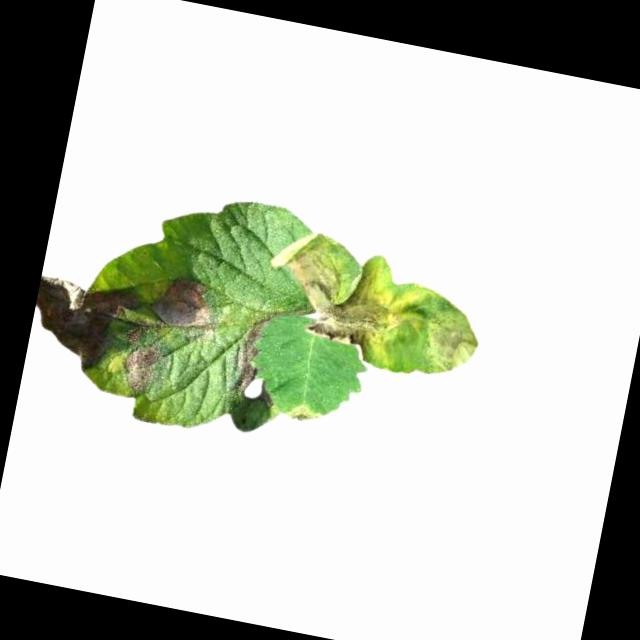Late_blight: (259, 241, 413, 362), (24, 274, 140, 381), (418, 301, 488, 384), (149, 272, 221, 338), (232, 310, 272, 398), (119, 340, 164, 399), (288, 404, 327, 431)
